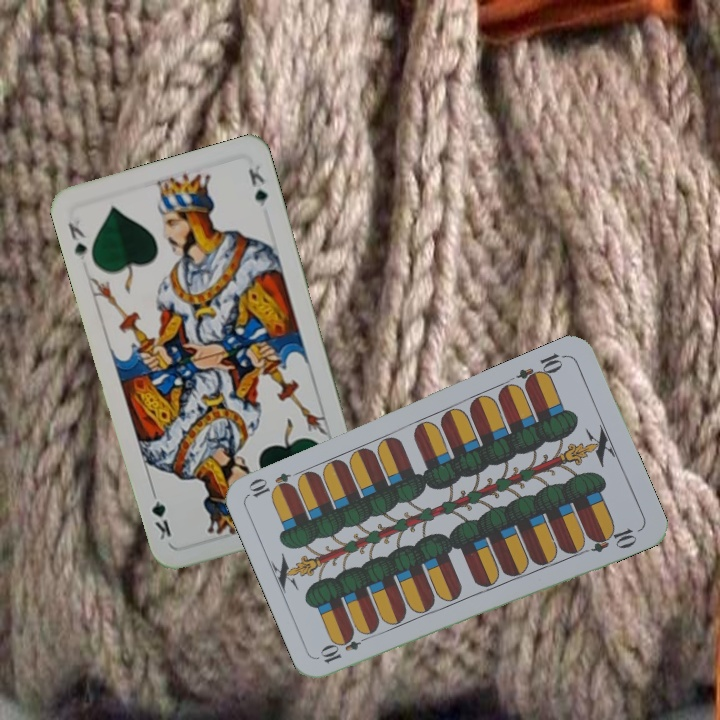E10: (513, 349, 569, 390), (316, 629, 374, 666)
GK: (63, 218, 90, 263)
